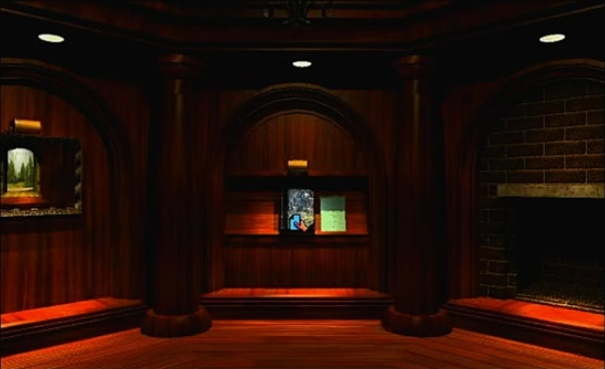Keep: (287, 211, 310, 234)
